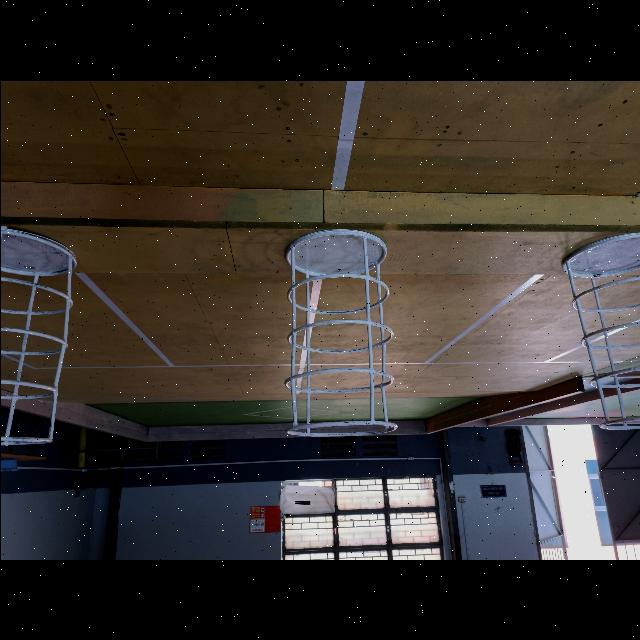S: (283, 227, 397, 437), (0, 224, 76, 445), (560, 230, 640, 431)
